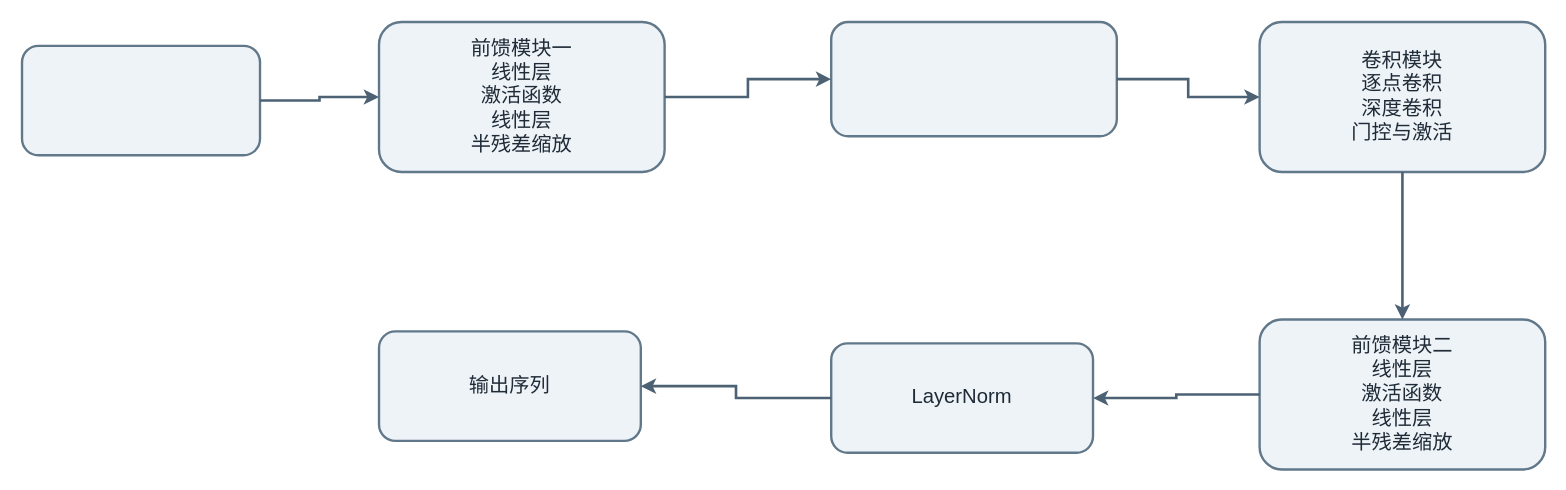
The diagram is 1566 pixels wide and 490 high, and some of its shapes have lost their labels. Here are the shapes that lost their labels. From the top down, the box of each, then its label:
(829, 20, 1117, 137): 相对位置多头自注意力
(20, 44, 261, 156): 输入序列
